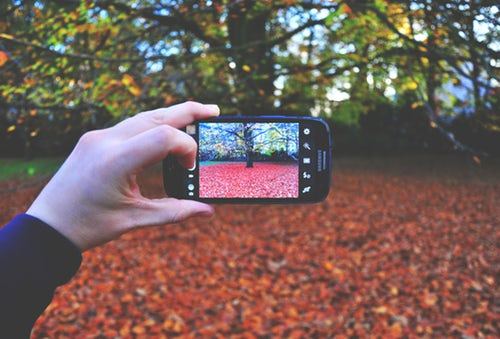phone: (160, 112, 335, 203)
